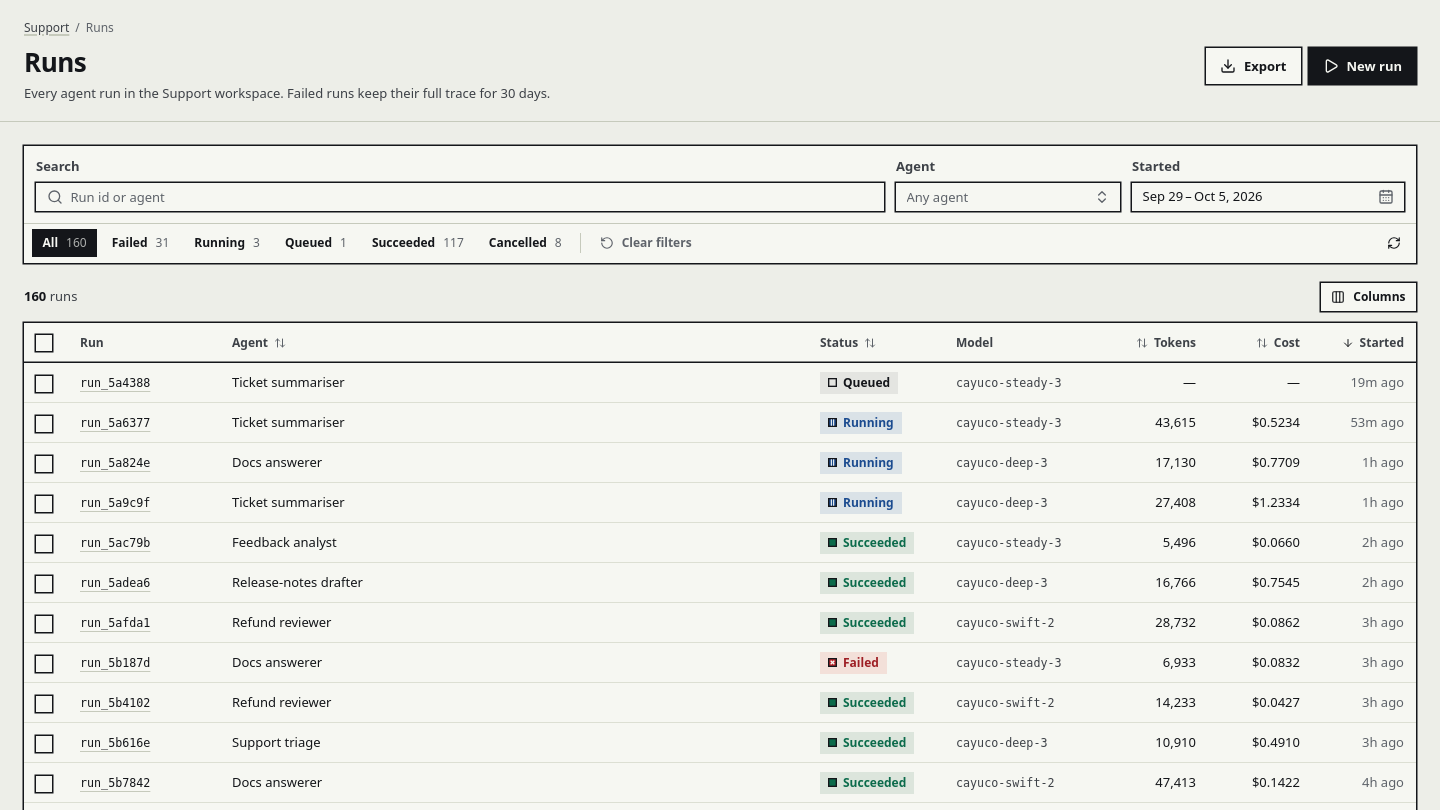
RunsAdminScreen › opens a run in a drawer, named by its agent
Click the button "run_5a4388" at (115, 384), box [80,375,150,392]
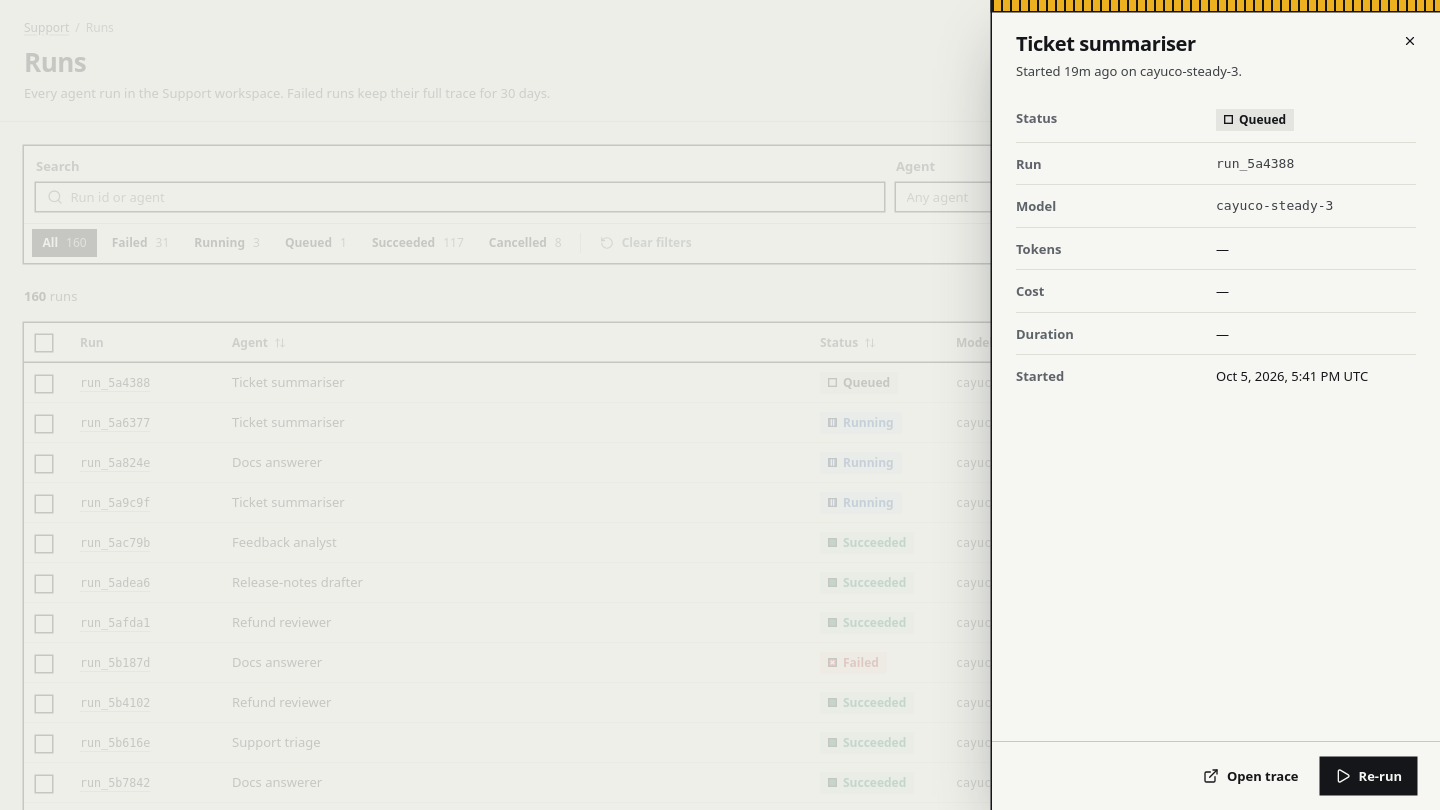
Press Escape
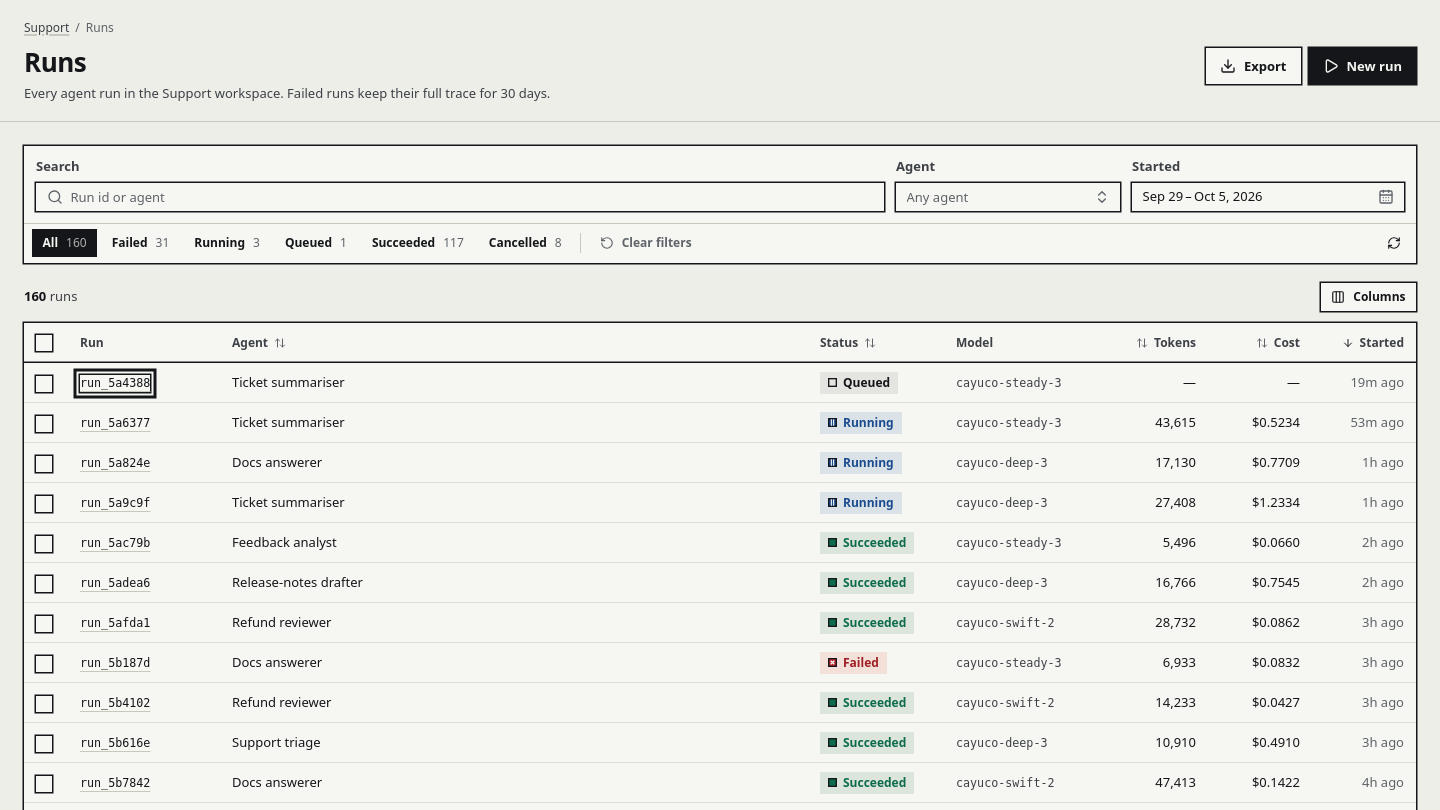
Check: the dialog is gone
